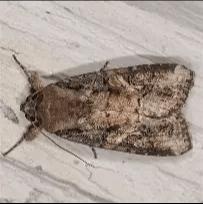army worm adult: (1, 54, 196, 158)
